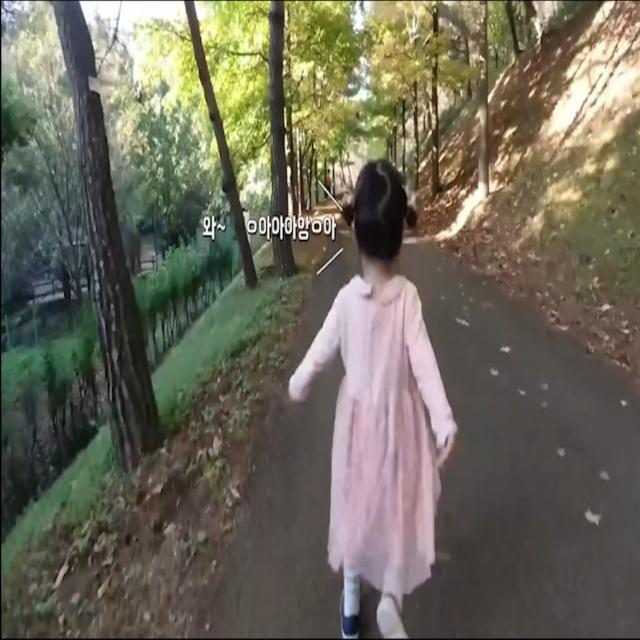child: (285, 160, 463, 640)
